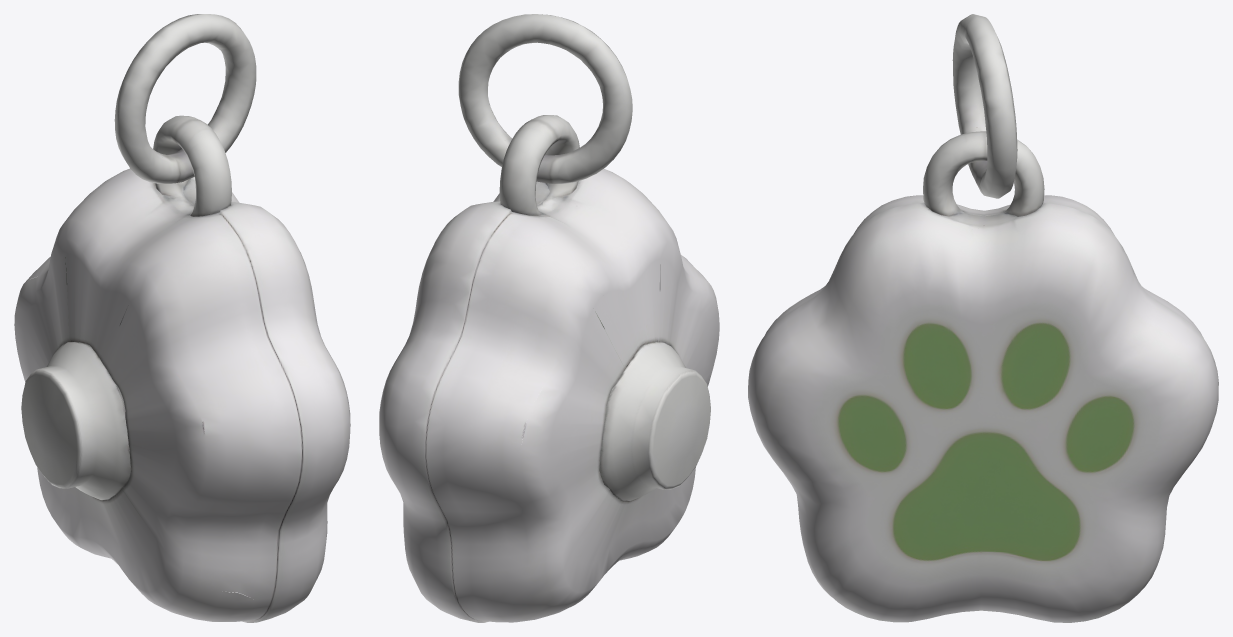
Rendered from clinic-tag.glb.
3 views of the same model, side by side, from view 1: azimuth 30°, elevation 25°; view 2: azimuth 150°, elevation 25°; view 3: azimuth 270°, elevation 25° (orthographic). The views are drawn at different scales.
Parts seen in each view (by area): view 1: tripo_node_bbeae44d-0d50-4210-b2e3-855c70d42fd7; view 2: tripo_node_bbeae44d-0d50-4210-b2e3-855c70d42fd7; view 3: tripo_node_bbeae44d-0d50-4210-b2e3-855c70d42fd7.
Part boxes in pixels (x1=…): tripo_node_bbeae44d-0d50-4210-b2e3-855c70d42fd7: x1=14, y1=14, x2=350, y2=622; tripo_node_bbeae44d-0d50-4210-b2e3-855c70d42fd7: x1=379, y1=14, x2=719, y2=622; tripo_node_bbeae44d-0d50-4210-b2e3-855c70d42fd7: x1=748, y1=14, x2=1218, y2=622.
Bounding box in the file's own units: 0.4012 × 0.9995 × 0.7292.
1 material, 1 textured.
